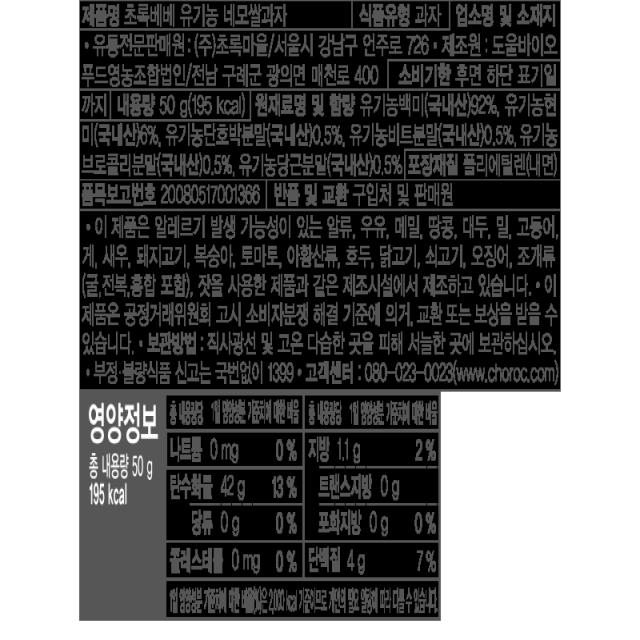Nutrition Label: (71, 381, 452, 634)
